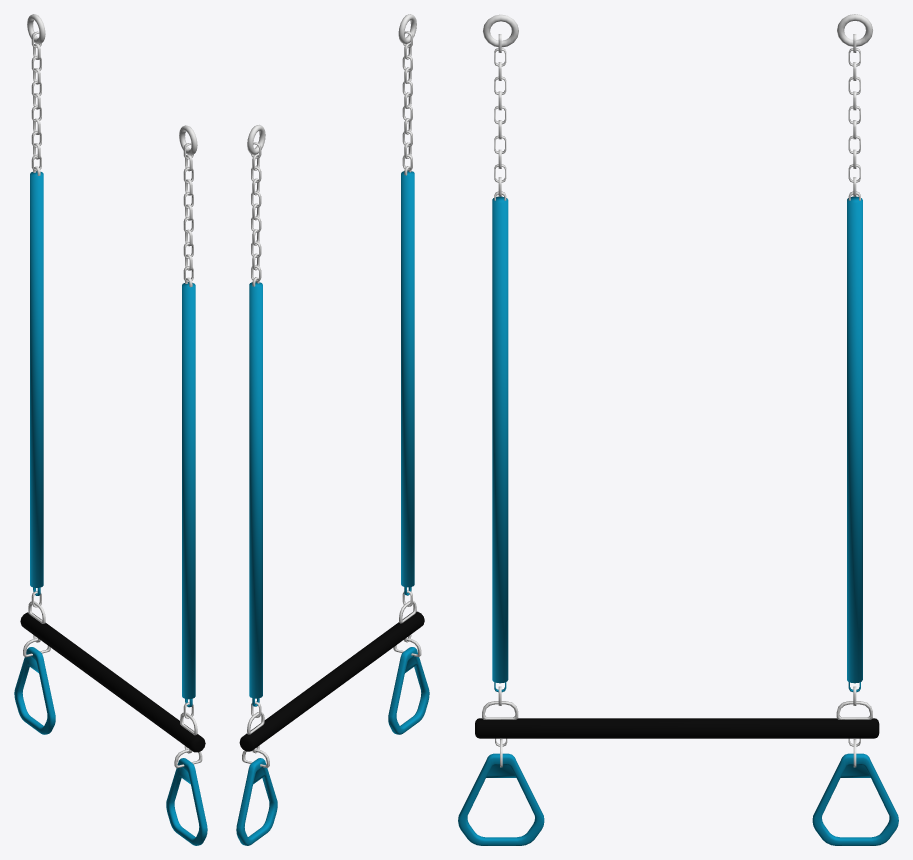
File: TZR__b8.dce3edf3.glb
3 views of the same model, side by side, from view 1: azimuth 30°, elevation 25°; view 2: azimuth 150°, elevation 25°; view 3: azimuth 270°, elevation 25° (orthographic). The views are drawn at different scales.
Visible parts, largest first — view 1: Cylinder024,_colorize_, Cylinder024_1, Cylinder024_2, Torus001; view 2: Cylinder024,_colorize_, Cylinder024_1, Cylinder024_2, Torus001; view 3: Cylinder024,_colorize_, Cylinder024_1, Cylinder024_2, Torus001.
Part boxes in pixels (<box>): Cylinder024,_colorize_: <box>14,171,207,845</box>; Cylinder024_1: <box>20,612,205,752</box>; Cylinder024_2: <box>23,31,202,768</box>; Torus001: <box>27,14,197,155</box>; Cylinder024,_colorize_: <box>236,170,429,845</box>; Cylinder024_1: <box>239,611,424,751</box>; Cylinder024_2: <box>242,31,421,767</box>; Torus001: <box>247,14,416,154</box>; Cylinder024,_colorize_: <box>458,196,898,845</box>; Cylinder024_1: <box>475,718,879,738</box>; Cylinder024_2: <box>482,34,872,767</box>; Torus001: <box>483,14,872,47</box>.
Size of the model in its own units: 0.0662 by 1.67 by 0.8021.
